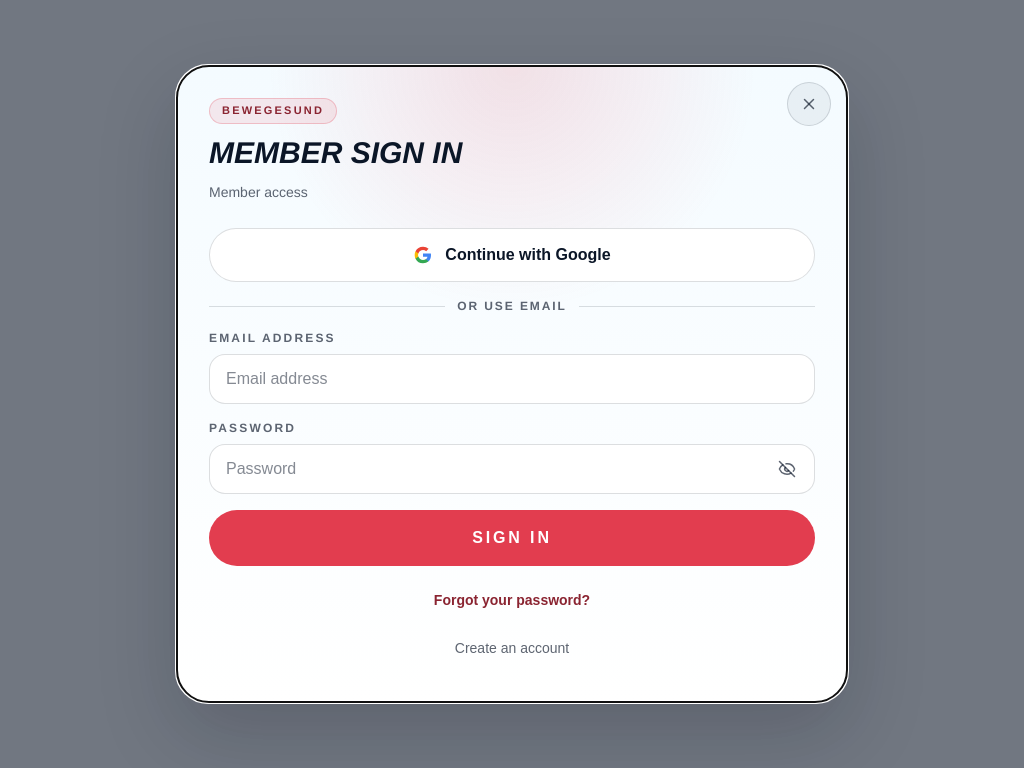
Test: AuthModal Google sign-in › toggles password visibility from the eye button
Click the button named "Show password" at (787, 469), box [765, 447, 809, 491]
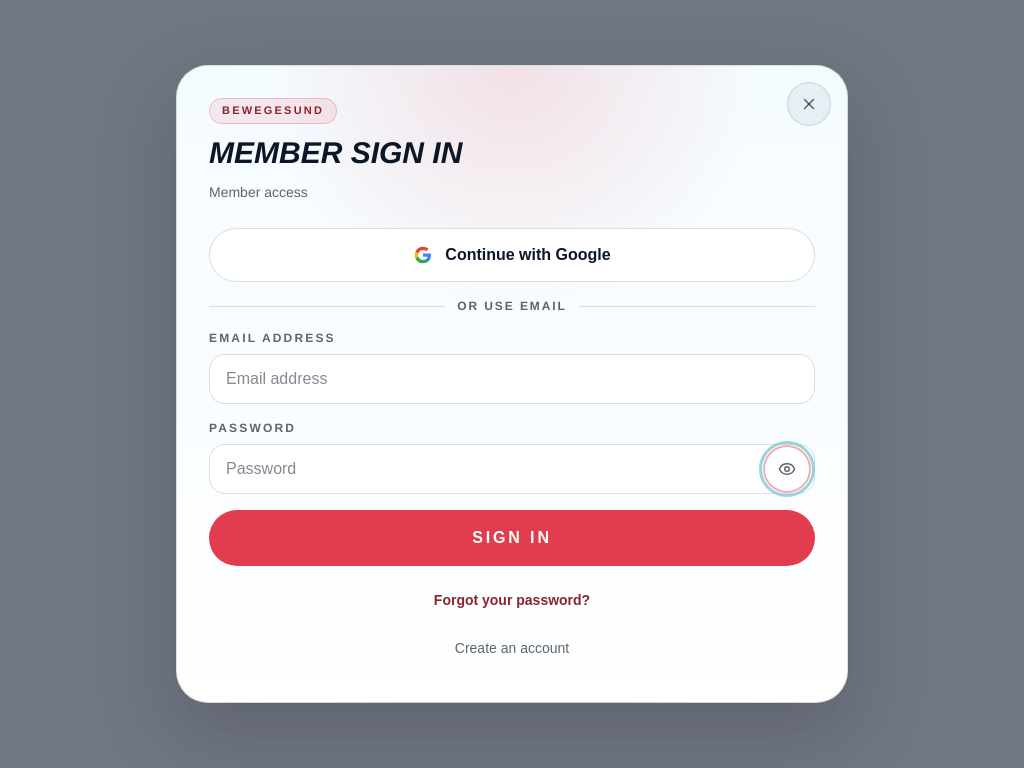
Check: the button named "Hide password" is shown, box [765, 447, 809, 491]
